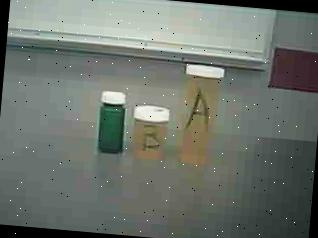Bottle A: (174, 54, 230, 170)
Bottle B: (128, 101, 173, 162)
Bottle C: (88, 84, 130, 161)
